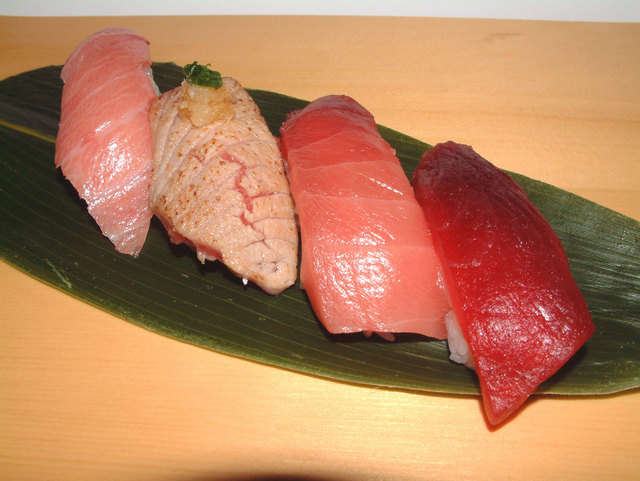medium_fatty_tuna: (282, 84, 453, 347)
